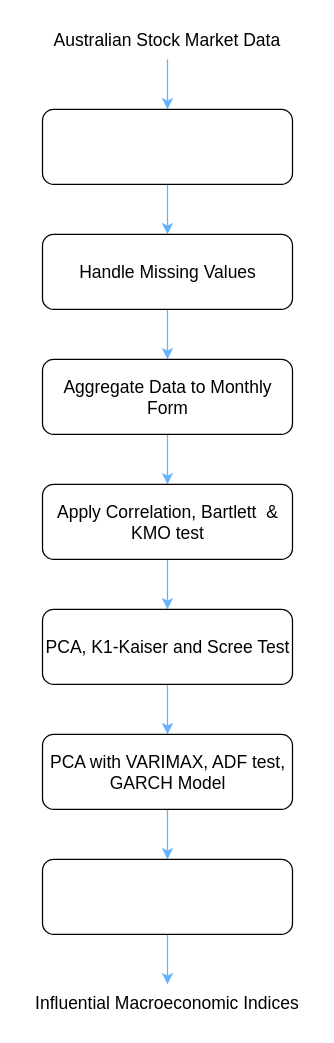
This 334x1043 diagram has some shape labels left out. Each missing label, with the box of its shape:
Data Collection: (41, 108, 292, 184)
Regression Analysis: (41, 858, 292, 934)
